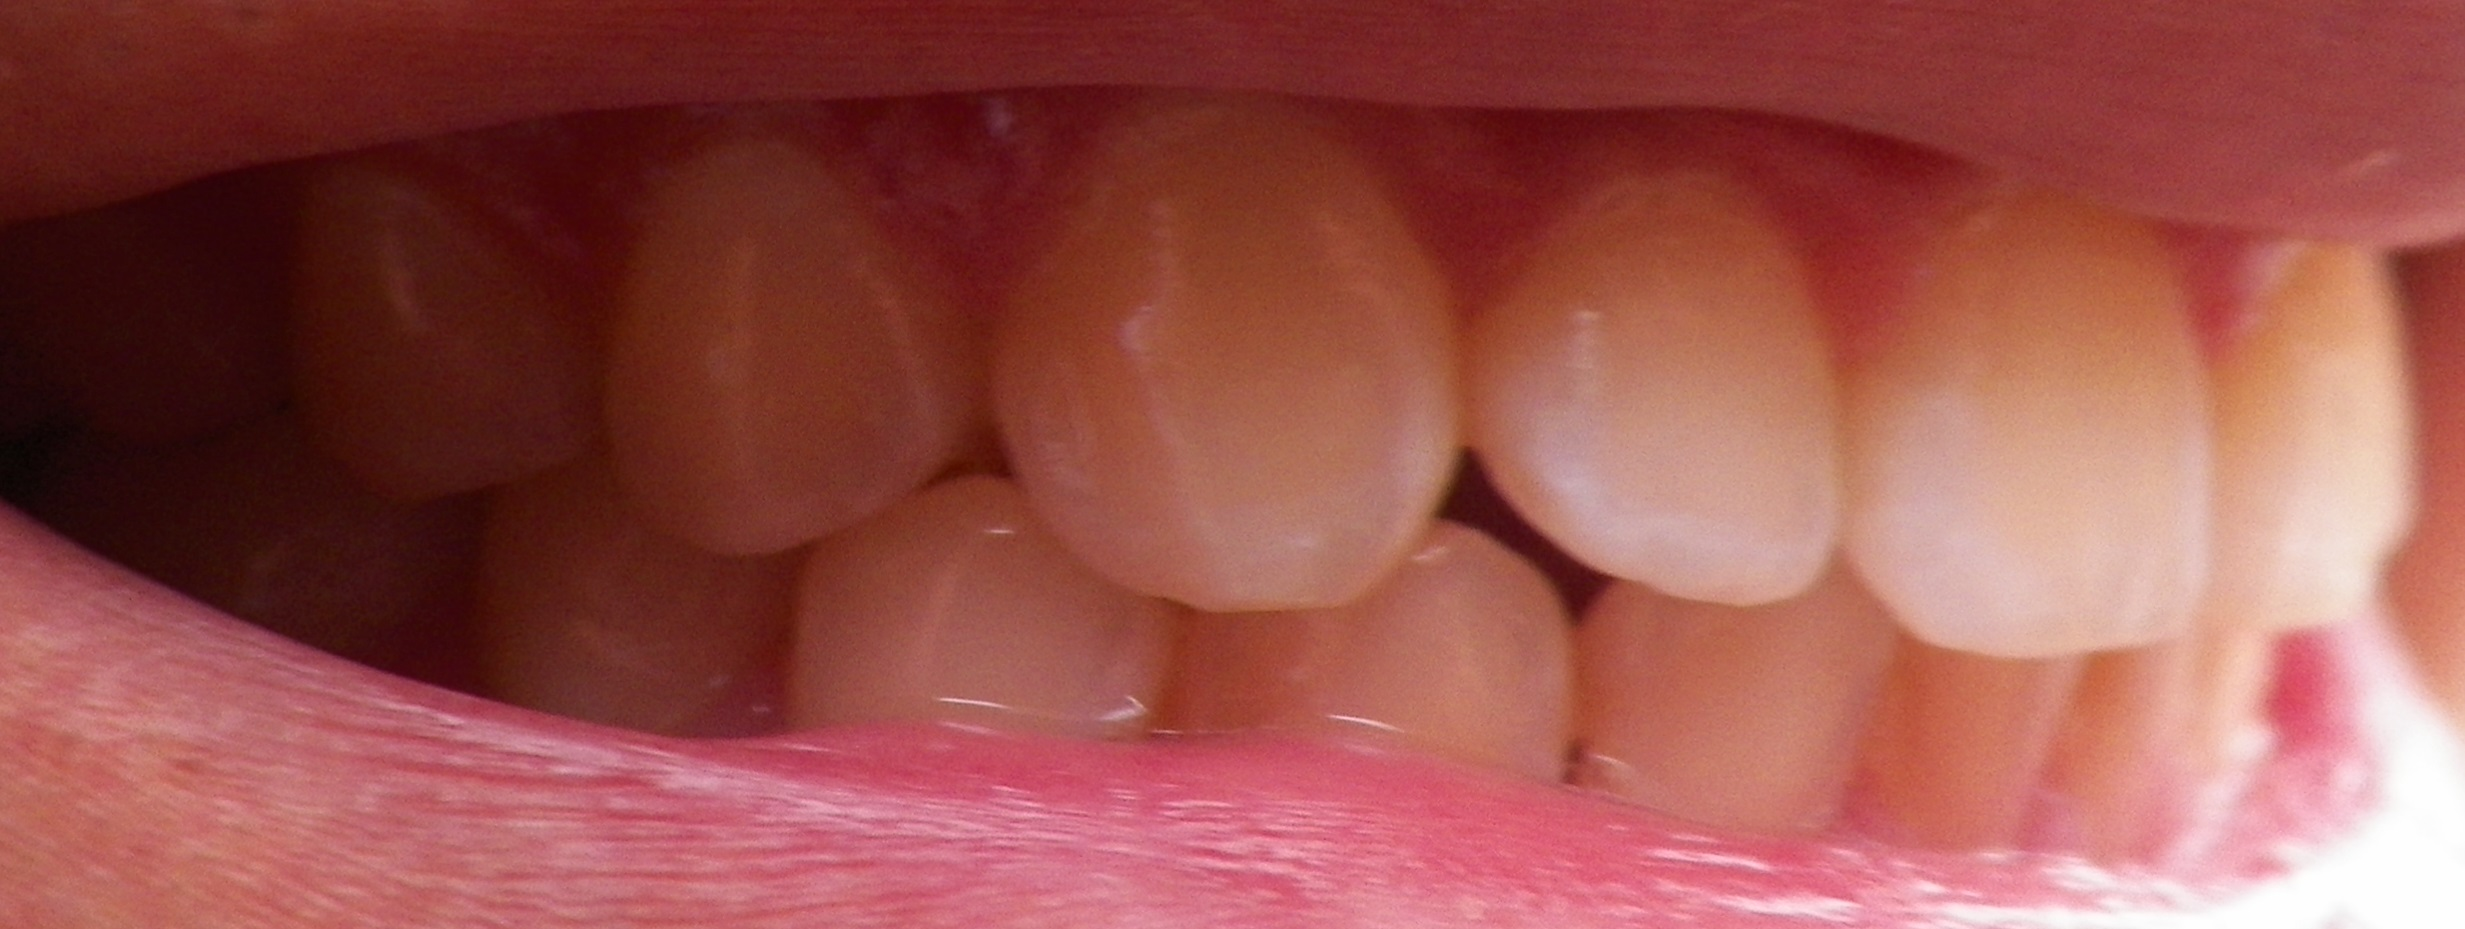boca: (77, 167, 2452, 854)
